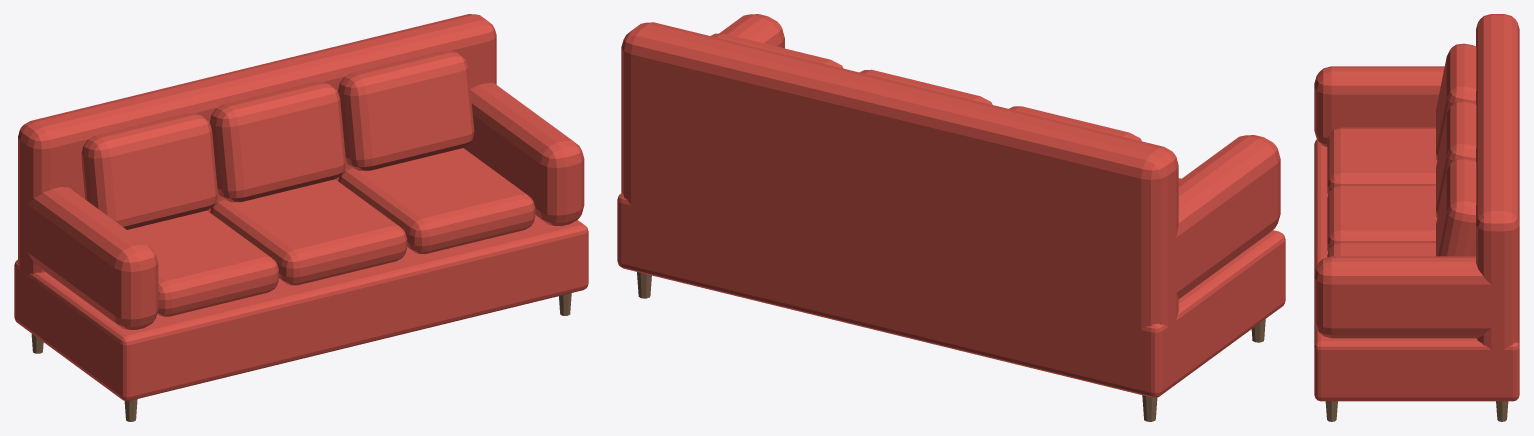
The model's file is sofa.glb.
3 renders of one model, left to right at view 1: azimuth 30°, elevation 25°; view 2: azimuth 150°, elevation 25°; view 3: azimuth 270°, elevation 25°, orthographic. The views are drawn at different scales.
Visible parts, largest first — view 1: sofa; view 2: sofa; view 3: sofa.
Boxes of the visible parts, x1,y1,x2,y2 form: sofa: (14, 14, 588, 421); sofa: (617, 14, 1285, 421); sofa: (1314, 14, 1519, 421).
Size of the model in its own units: 2.26 by 1.06 by 0.94.
